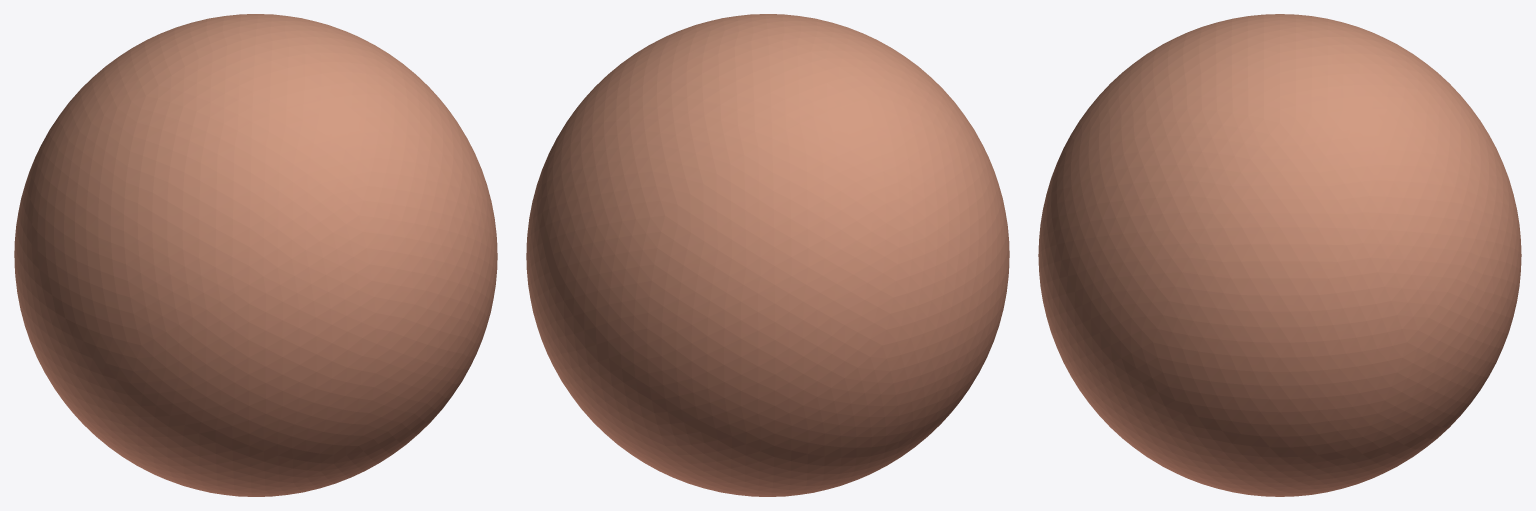
Rendered from mars.glb.
3 views of the same model, side by side, from view 1: azimuth 30°, elevation 25°; view 2: azimuth 150°, elevation 25°; view 3: azimuth 270°, elevation 25° (orthographic).
Visible parts, largest first — view 1: world; view 2: world; view 3: world.
Boxes of the visible parts, x1,y1,x2,y2 form: world: [14, 14, 497, 496]; world: [526, 14, 1009, 496]; world: [1038, 14, 1521, 496].
Bounding box in the file's own units: 2 × 2 × 2.
